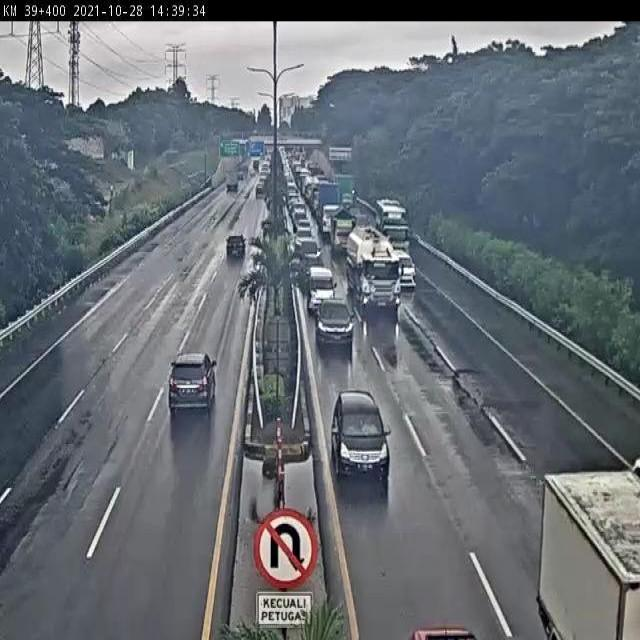big bus: (378, 196, 416, 248)
big truck: (343, 223, 395, 320)
car: (326, 376, 394, 481), (153, 338, 221, 426), (311, 296, 345, 353), (305, 260, 331, 305), (391, 250, 417, 290), (219, 232, 249, 261), (296, 240, 326, 263)
small truck: (509, 422, 640, 640)
